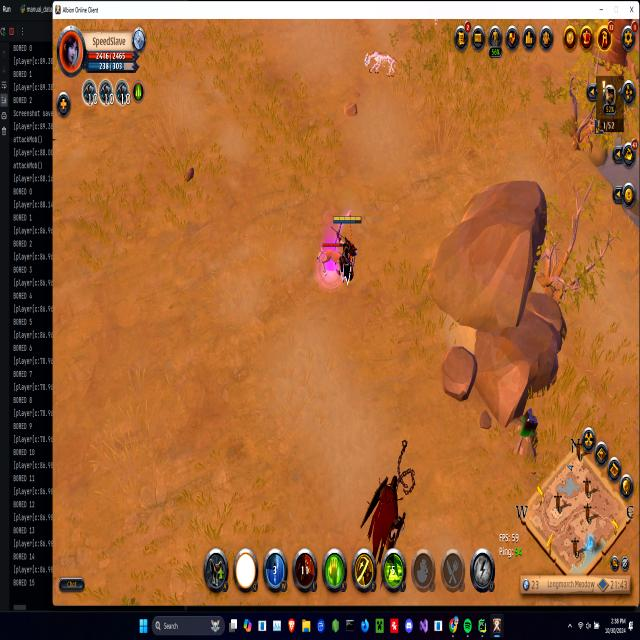ore: (360, 473, 408, 560), (318, 242, 344, 284)
player: (512, 409, 542, 459)
red: (328, 212, 360, 285)
